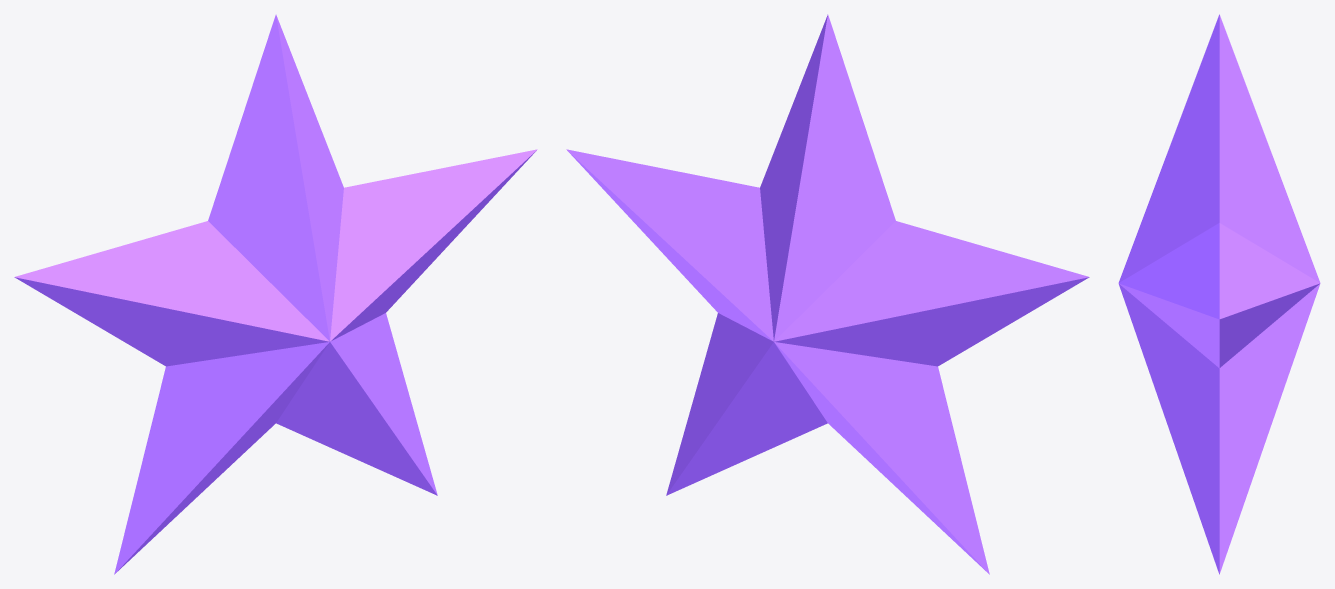
File: star3d.glb
The picture shows the model from 3 angles, left to right: view 1: azimuth 30°, elevation 25°; view 2: azimuth 150°, elevation 25°; view 3: azimuth 270°, elevation 25°; orthographic projection. The views are drawn at different scales.
Visible parts, largest first — view 1: Star; view 2: Star; view 3: Star.
Boxes of the visible parts, x1,y1,x2,y2 form: Star: (14, 14, 537, 574); Star: (566, 14, 1089, 574); Star: (1118, 14, 1320, 574).
Bounding box in the file's own units: 0.9511 × 0.9045 × 0.34.
